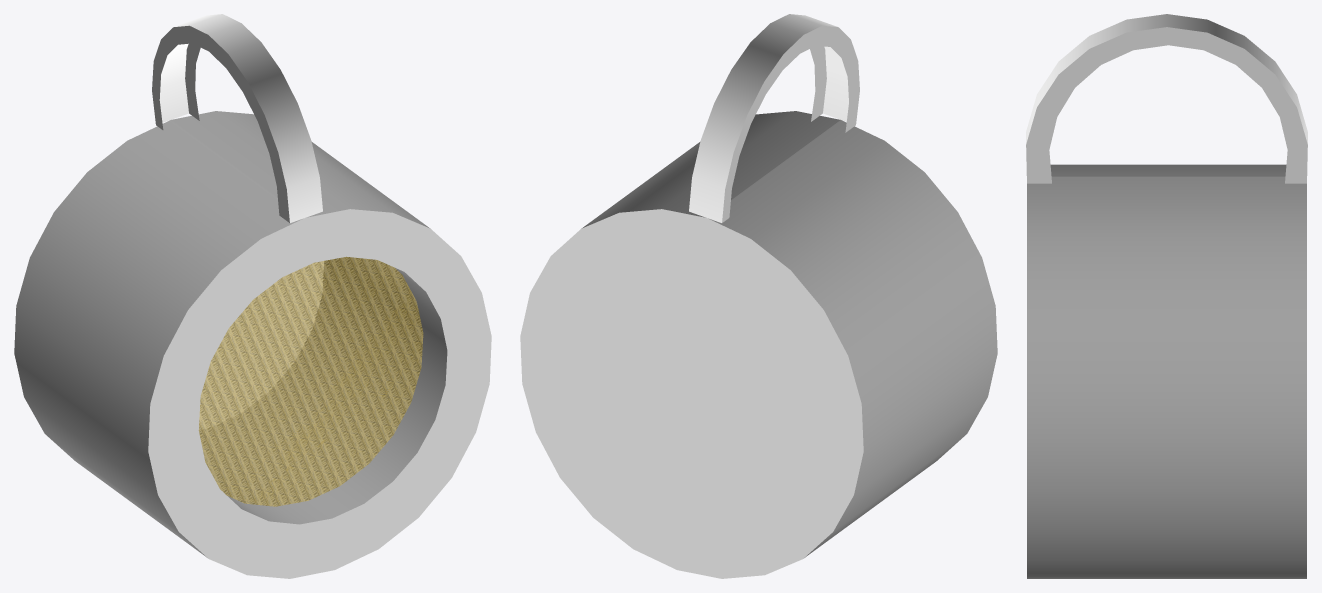
The model's file is model_scale.obj.
3 renders of one model, left to right at view 1: azimuth 30°, elevation 25°; view 2: azimuth 150°, elevation 25°; view 3: azimuth 270°, elevation 25°, orthographic. The views are drawn at different scales.
Parts seen in each view (by area): view 1: mesh1_mesh1-geometry, mesh2_mesh2-geometry; view 2: mesh1_mesh1-geometry, mesh2_mesh2-geometry; view 3: mesh1_mesh1-geometry, mesh2_mesh2-geometry.
Boxes of the visible parts, x1,y1,x2,y2 form: mesh1_mesh1-geometry: [14, 111, 491, 578]; mesh2_mesh2-geometry: [152, 14, 322, 222]; mesh1_mesh1-geometry: [520, 111, 997, 578]; mesh2_mesh2-geometry: [689, 14, 859, 222]; mesh1_mesh1-geometry: [1027, 164, 1306, 578]; mesh2_mesh2-geometry: [1026, 14, 1307, 183].
Size of the model in its own units: 0.0931 by 0.1306 by 0.0633.
